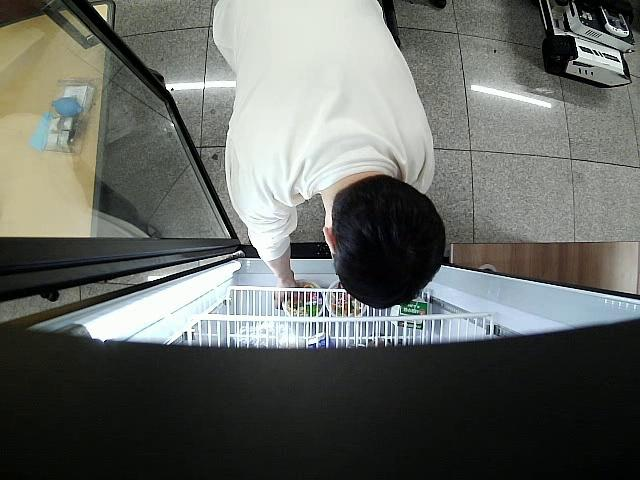00_hand: (273, 277, 299, 307)
09_yukGaeJang: (283, 281, 323, 318)
